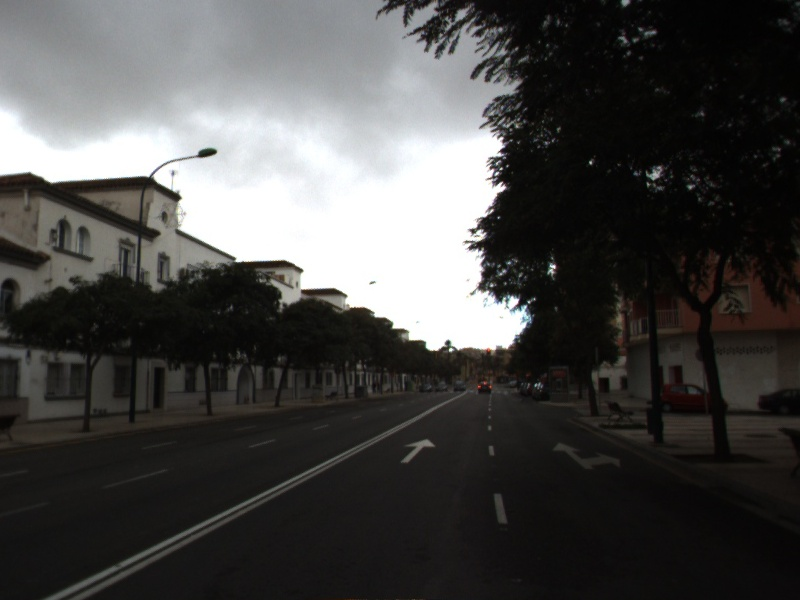STRAIGHT: (400, 437, 437, 464)
STRAIGHT_RIGHT: (551, 441, 622, 470)
